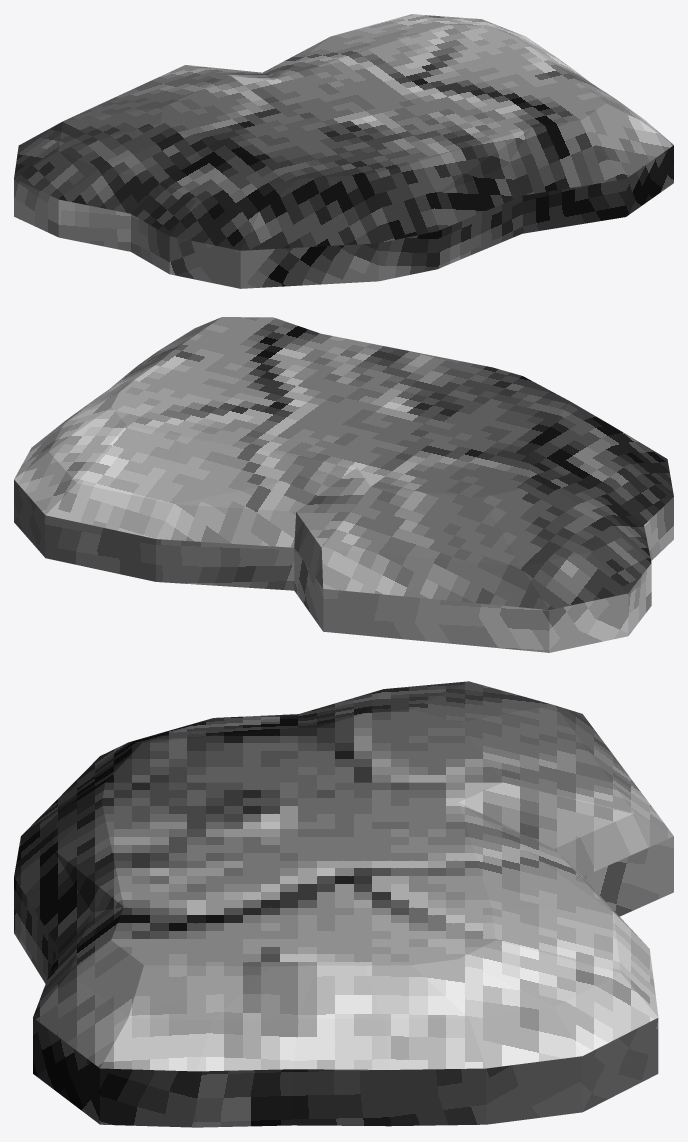
Rendered from Rock_316x01.gltf.
3 renders of one model, top to bottom at view 1: azimuth 30°, elevation 25°; view 2: azimuth 150°, elevation 25°; view 3: azimuth 270°, elevation 25°, orthographic. The views are drawn at different scales.
Visible parts, largest first — view 1: Rock_316x01; view 2: Rock_316x01; view 3: Rock_316x01.
Boxes of the visible parts, x1=… form: Rock_316x01: x1=14, y1=14, x2=673, y2=288; Rock_316x01: x1=14, y1=317, x2=673, y2=652; Rock_316x01: x1=14, y1=681, x2=673, y2=1127.
Bounding box in the file's own units: 5.8 × 0.8537 × 4.21.
1 material, 1 textured.
